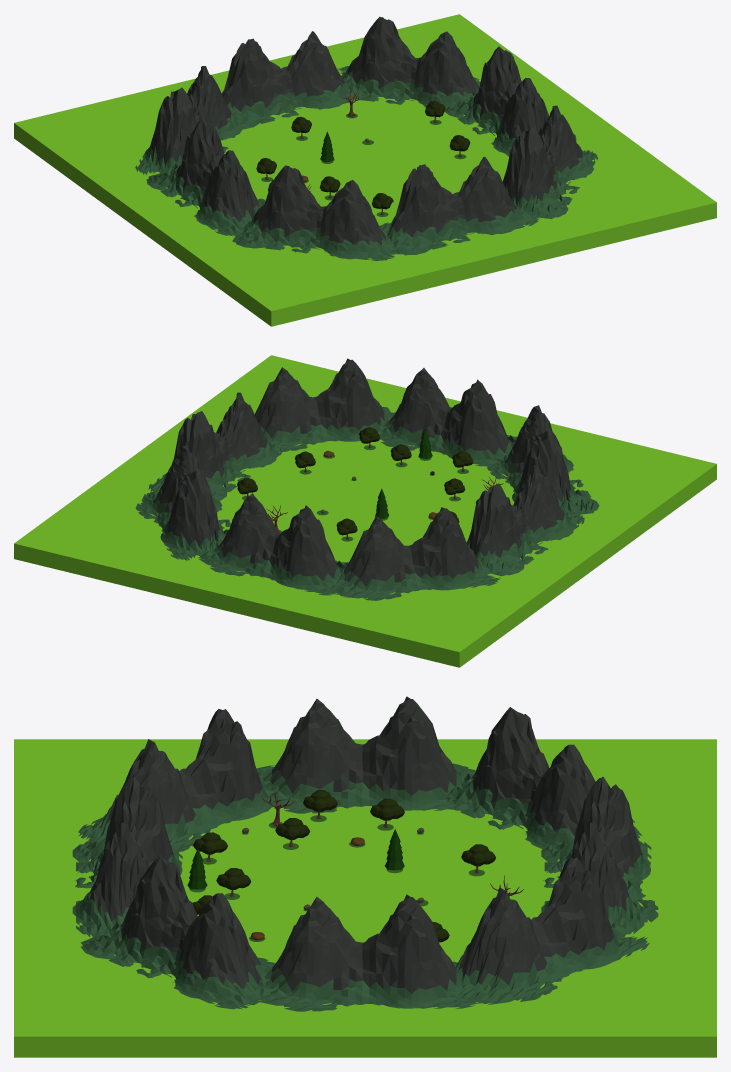
Rendered from Stage4.fbx.
3 views of the same model, one above another, from view 1: azimuth 30°, elevation 25°; view 2: azimuth 150°, elevation 25°; view 3: azimuth 270°, elevation 25° (orthographic). The views are drawn at different scales.
Parts seen in each view (by area): view 1: Cube, mountain__5_, mountain, mountain__4_, mountain__1_, mountain__2_, mountain__7_, mountain__3_, mountain__6_; view 2: Cube, mountain__6_, mountain__1_, mountain__7_, mountain, mountain__2_, mountain__4_, mountain__3_, mountain__5_; view 3: Cube, mountain__3_, mountain__2_, mountain__4_, mountain__7_, mountain__6_, mountain__5_, mountain, mountain__1_, oakTree__6_, oakTree__3_, oakTree__2_ (+3 smaller).
Part boxes in pixels (x1=…): Cube: x1=14, y1=14, x2=716, y2=326; mountain__5_: x1=232, y1=165, x2=396, y2=260; mountain: x1=379, y1=157, x2=539, y2=255; mountain__4_: x1=337, y1=16, x2=480, y2=109; mountain__1_: x1=222, y1=31, x2=363, y2=129; mountain__2_: x1=146, y1=119, x2=265, y2=236; mountain__7_: x1=503, y1=105, x2=598, y2=218; mountain__3_: x1=444, y1=46, x2=576, y2=156; mountain__6_: x1=135, y1=66, x2=242, y2=174; Cube: x1=14, y1=355, x2=716, y2=667; mountain__6_: x1=331, y1=507, x2=500, y2=600; mountain__1_: x1=198, y1=493, x2=348, y2=595; mountain__7_: x1=254, y1=358, x2=394, y2=452; mountain: x1=379, y1=368, x2=517, y2=467; mountain__2_: x1=466, y1=465, x2=584, y2=576; mountain__4_: x1=135, y1=445, x2=230, y2=560; mountain__3_: x1=148, y1=392, x2=284, y2=500; mountain__5_: x1=487, y1=405, x2=599, y2=515; Cube: x1=14, y1=739, x2=716, y2=1057; mountain__3_: x1=258, y1=894, x2=475, y2=1011; mountain__2_: x1=256, y1=696, x2=475, y2=813; mountain__4_: x1=455, y1=857, x2=649, y2=1004; mountain__7_: x1=80, y1=855, x2=275, y2=1009; mountain__6_: x1=442, y1=707, x2=641, y2=849; mountain__5_: x1=78, y1=709, x2=274, y2=851; mountain: x1=72, y1=776, x2=182, y2=936; mountain__1_: x1=541, y1=776, x2=658, y2=935; oakTree__6_: x1=461, y1=844, x2=495, y2=873; oakTree__3_: x1=216, y1=868, x2=251, y2=897; oakTree__2_: x1=370, y1=798, x2=404, y2=827.
Bounding box in the file's own units: 30000 × 5360 × 30000.
